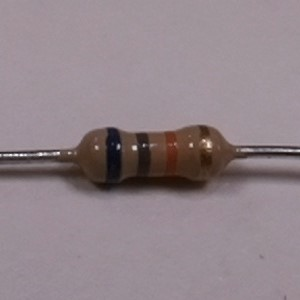blue_band: (102, 124, 125, 187)
gold_band: (194, 123, 216, 187)
grey_band: (131, 129, 156, 181)
orange_band: (162, 128, 180, 181)
